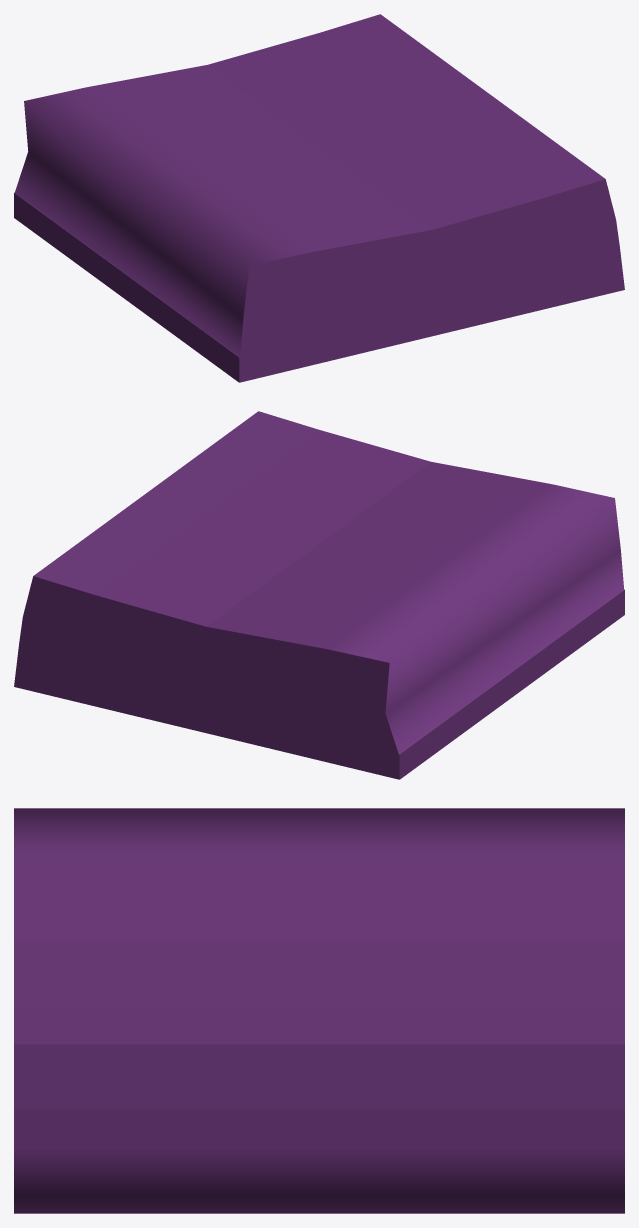
The model's file is intro_prop(floor_catacombs)_01.FBX.
The picture shows the model from 3 angles, top to bottom: view 1: azimuth 30°, elevation 25°; view 2: azimuth 150°, elevation 25°; view 3: azimuth 270°, elevation 25°; orthographic projection. The views are drawn at different scales.
Visible parts, largest first — view 1: floor_catacombs001; view 2: floor_catacombs001; view 3: floor_catacombs001.
Part boxes in pixels (x1,y1,x2,y2): floor_catacombs001: (14, 14, 624, 382); floor_catacombs001: (14, 411, 624, 779); floor_catacombs001: (14, 808, 624, 1213).
Size of what is drawn, in the model's own units: 172 by 49.25 by 174.
